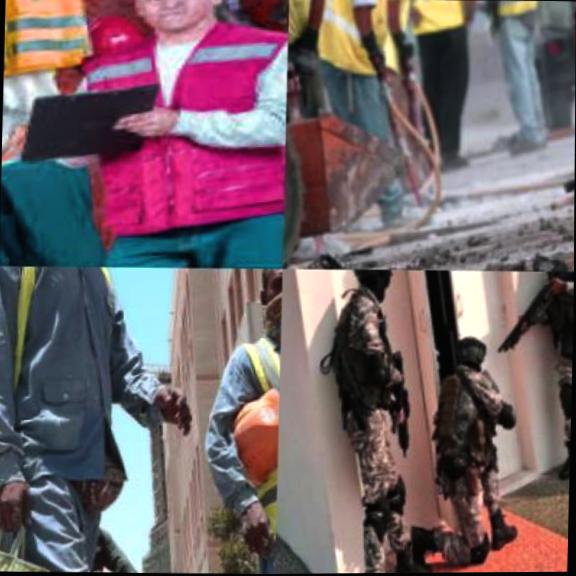safety_vest: (42, 14, 287, 266), (0, 264, 141, 510), (218, 334, 279, 574), (420, 362, 510, 481), (317, 302, 397, 423), (3, 0, 111, 86), (301, 0, 392, 82), (393, 0, 472, 46), (534, 271, 574, 361), (472, 0, 537, 30)
